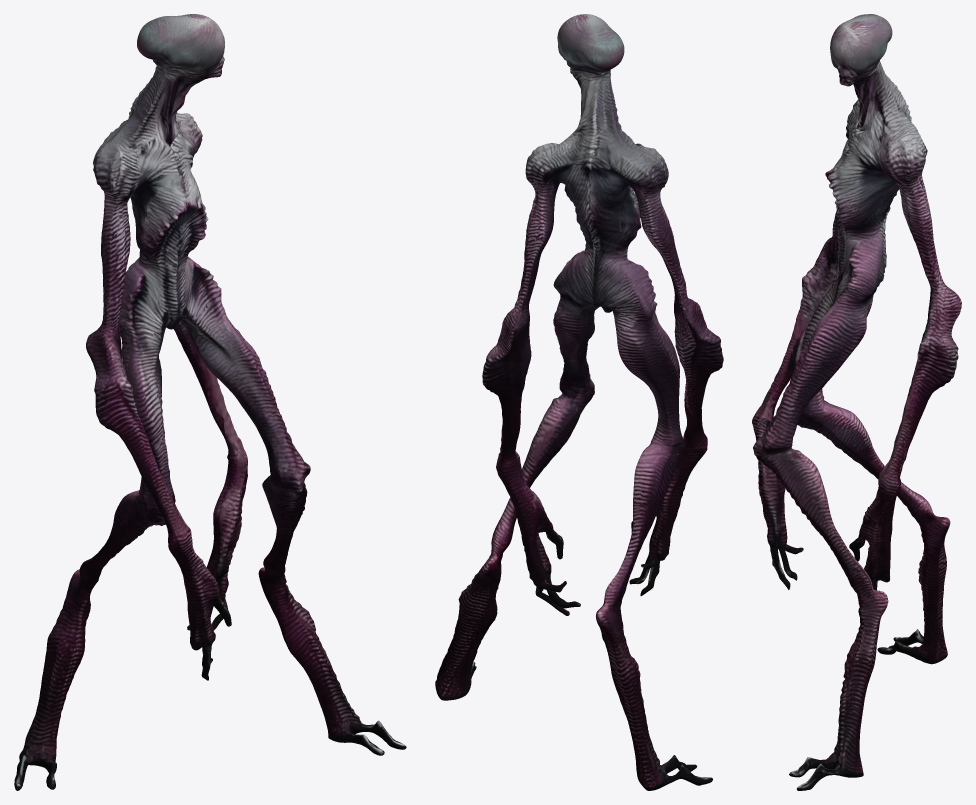
The model's file is xenomorphic_void_wanderer.glb.
The picture shows the model from 3 angles, left to right: view 1: azimuth 30°, elevation 25°; view 2: azimuth 150°, elevation 25°; view 3: azimuth 270°, elevation 25°; orthographic projection. The views are drawn at different scales.
Parts seen in each view (by area): view 1: tripo_node_159890f1; view 2: tripo_node_159890f1; view 3: tripo_node_159890f1.
Boxes of the visible parts, box(x1,y1,x2,y2) form: tripo_node_159890f1: box(14, 14, 406, 790); tripo_node_159890f1: box(435, 14, 723, 790); tripo_node_159890f1: box(752, 14, 961, 790).
Bounding box in the file's own units: 0.4677 × 1 × 0.2762.
1 material, 1 textured.
